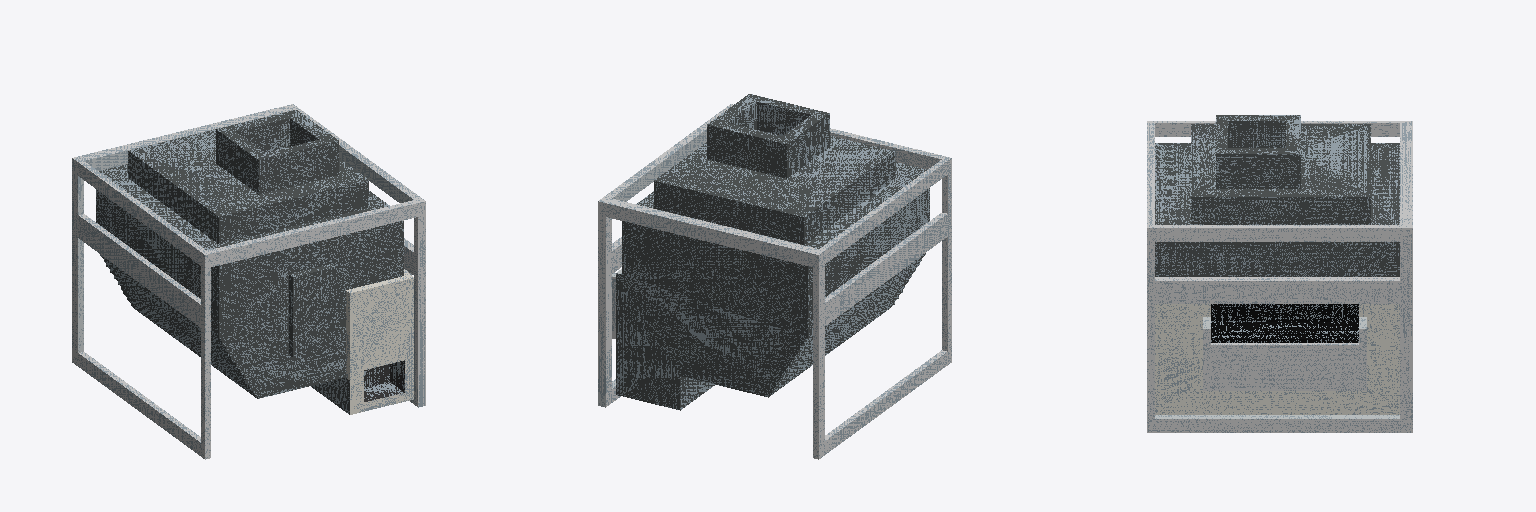
Rendered from generator.obj.
3 renders of one model, left to right at view 1: azimuth 30°, elevation 25°; view 2: azimuth 150°, elevation 25°; view 3: azimuth 270°, elevation 25°, orthographic.
Visible parts, largest first — view 1: Mesh1 Model; view 2: Mesh1 Model; view 3: Mesh1 Model.
Part boxes in pixels (bbox=[...]): Mesh1 Model: bbox=[72, 104, 425, 459]; Mesh1 Model: bbox=[598, 94, 951, 459]; Mesh1 Model: bbox=[1147, 115, 1412, 432].
Size of the model in its own units: 0.9715 by 1 by 0.9527.